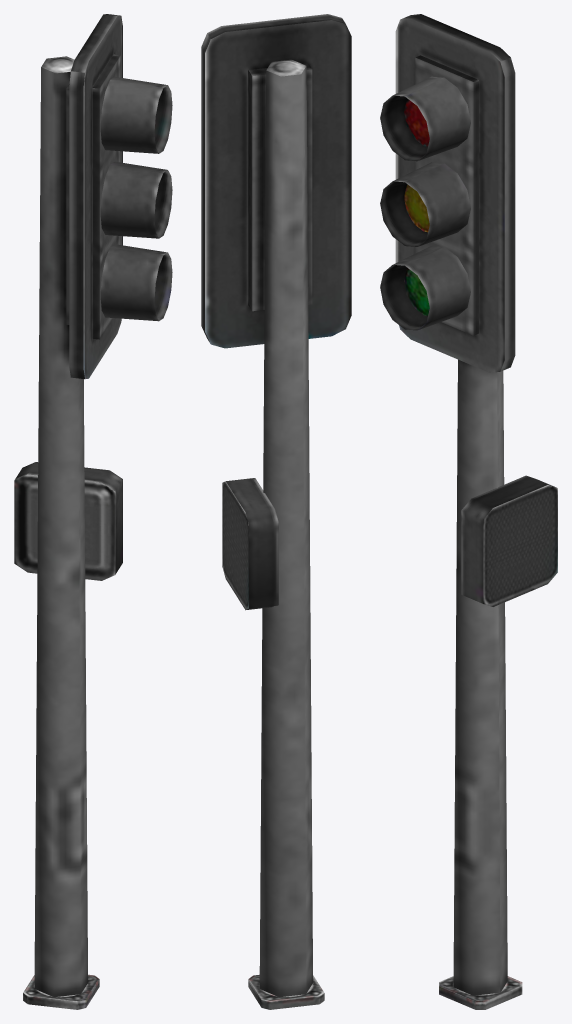
Rendered from traffic_light_small2.FBX.
3 views of the same model, side by side, from view 1: azimuth 30°, elevation 25°; view 2: azimuth 150°, elevation 25°; view 3: azimuth 270°, elevation 25° (orthographic).
Visible parts, largest first — view 1: traffic_light_small2; view 2: traffic_light_small2; view 3: traffic_light_small2.
Boxes of the visible parts, x1,y1,x2,y2 form: traffic_light_small2: [14, 14, 172, 1009]; traffic_light_small2: [201, 14, 351, 1009]; traffic_light_small2: [380, 14, 557, 1009].
Size of the model in its own units: 5.41 by 40.67 by 6.75.
Materials: 1 (1 with a texture image).
